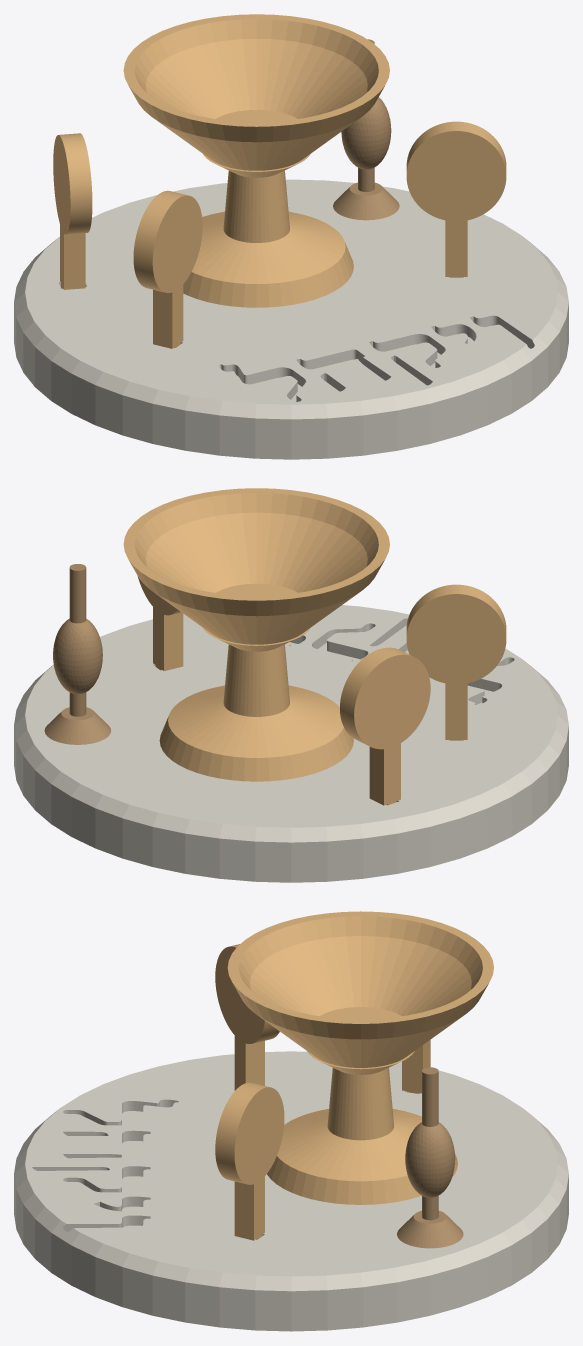
File: vayakhel.glb
3 views of the same model, one above another, from view 1: azimuth 30°, elevation 25°; view 2: azimuth 150°, elevation 25°; view 3: azimuth 270°, elevation 25° (orthographic).
Visible parts, largest first — view 1: stage, laver, stand, mirror-2, mirror-1, mirror-3, spindle; view 2: stage, laver, stand, mirror-1, mirror-3, spindle, mirror-2; view 3: stage, laver, stand, mirror-2, spindle, mirror-1, mirror-3.
Boxes of the visible parts, x1,y1,x2,y2 form: stage: (14,179,568,459); laver: (123,14,389,170); stand: (183,154,353,307); mirror-2: (406,121,506,277); mirror-1: (133,190,202,348); mirror-3: (53,133,92,289); spindle: (333,39,399,220); stage: (14,605,568,882); laver: (123,488,389,644); stand: (159,628,353,781); mirror-1: (406,584,506,740); mirror-3: (340,647,430,805); spindle: (44,564,111,744); mirror-2: (137,576,183,670); stage: (14,1051,568,1331); laver: (227,911,493,1067); stand: (267,1051,457,1204); mirror-2: (215,1082,284,1240); spindle: (397,1067,463,1248); mirror-1: (215,944,279,1090); mirror-3: (402,1040,430,1093).
Size of the model in its own units: 40 by 19.6 by 40.
